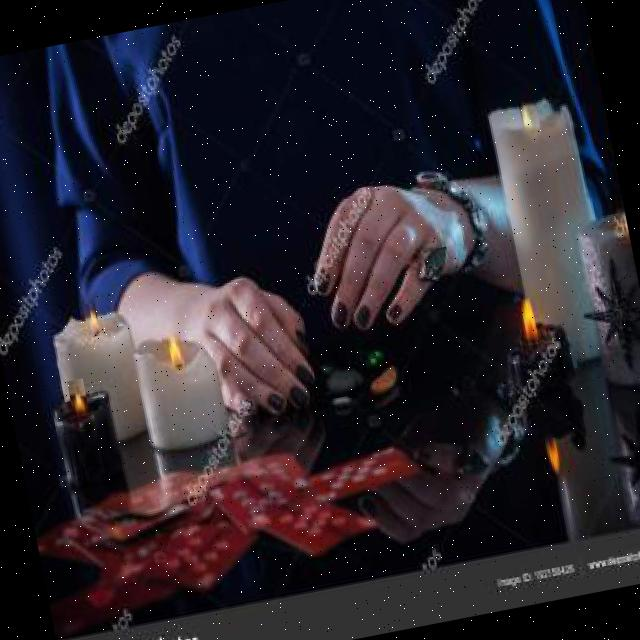fire: (161, 333, 188, 378), (518, 298, 540, 347), (67, 378, 90, 418), (518, 96, 540, 132), (83, 302, 101, 338)
